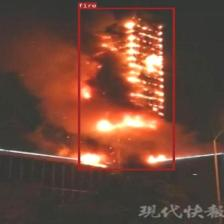fire: (78, 7, 174, 170)
